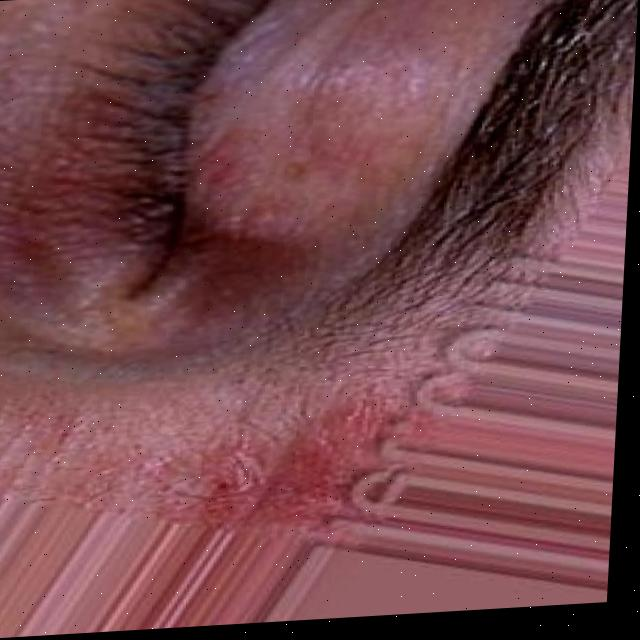Rosacea: (171, 398, 358, 539)
